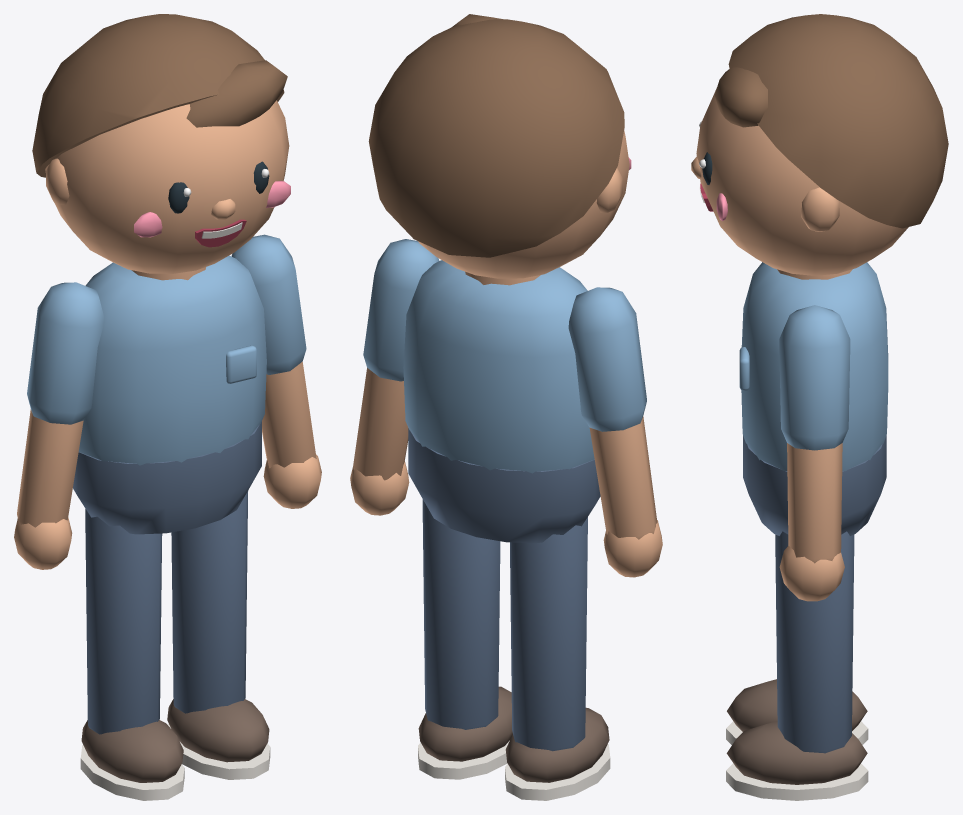
File: char_adult.glb
3 views of the same model, side by side, from view 1: azimuth 30°, elevation 25°; view 2: azimuth 150°, elevation 25°; view 3: azimuth 270°, elevation 25° (orthographic).
Parts seen in each view (by area): view 1: Head, Body, LegR, LegL, ArmR, ArmL; view 2: Head, Body, LegR, LegL, ArmR, ArmL; view 3: Head, Body, LegL, ArmL, LegR.
Part boxes in pixels (x1=…): Head: x1=32, y1=14, x2=290, y2=273; Body: x1=73, y1=255, x2=266, y2=534; LegR: x1=80, y1=509, x2=184, y2=800; LegL: x1=167, y1=491, x2=270, y2=779; ArmR: x1=14, y1=282, x2=104, y2=569; ArmL: x1=231, y1=234, x2=321, y2=508; Head: x1=368, y1=14, x2=631, y2=278; Body: x1=403, y1=260, x2=600, y2=543; LegR: x1=505, y1=517, x2=610, y2=800; LegL: x1=418, y1=499, x2=512, y2=779; ArmR: x1=568, y1=287, x2=662, y2=577; ArmL: x1=350, y1=239, x2=439, y2=515; Head: x1=691, y1=14, x2=948, y2=275; Body: x1=739, y1=262, x2=888, y2=535; LegL: x1=726, y1=531, x2=868, y2=800; ArmL: x1=779, y1=305, x2=850, y2=601; LegR: x1=726, y1=679, x2=868, y2=744.
Size of the model in its own units: 0.6875 by 1.61 by 0.5111.
